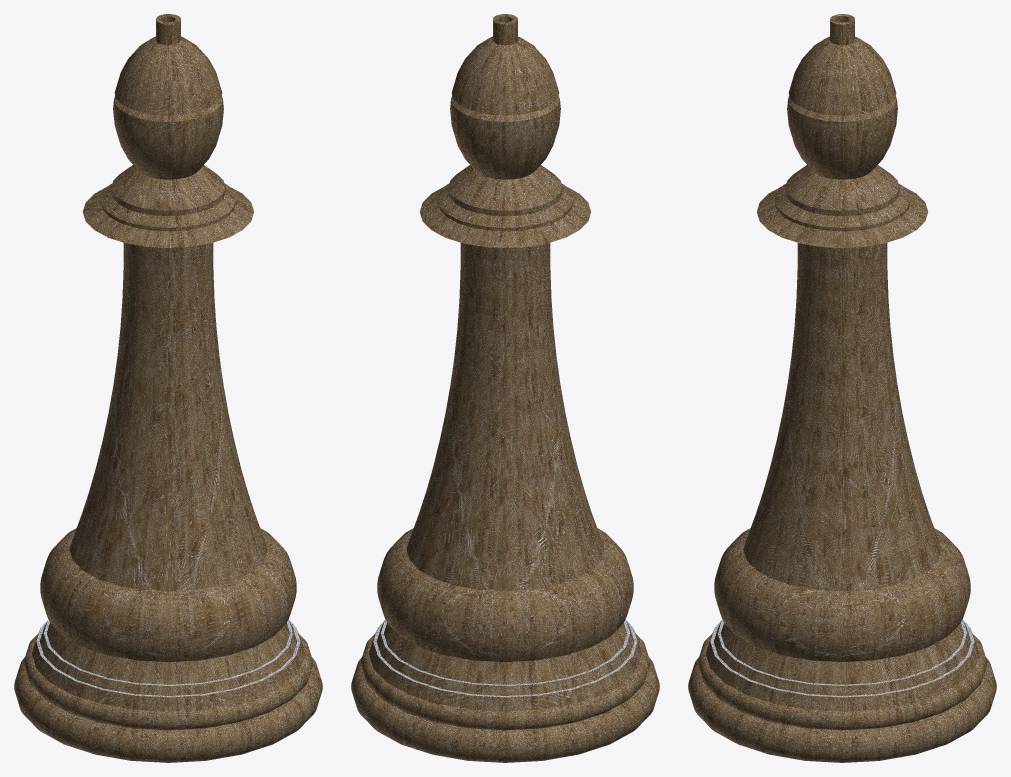
File: bishop.fbx
The picture shows the model from 3 angles, left to right: view 1: azimuth 30°, elevation 25°; view 2: azimuth 150°, elevation 25°; view 3: azimuth 270°, elevation 25°; orthographic projection.
Visible parts, largest first — view 1: Group1; view 2: Group1; view 3: Group1.
Part boxes in pixels (x1,y1,x2,y2): Group1: (14, 14, 322, 762); Group1: (351, 14, 659, 762); Group1: (688, 14, 996, 762).
Bounding box in the file's own units: 557 × 1359 × 557.
